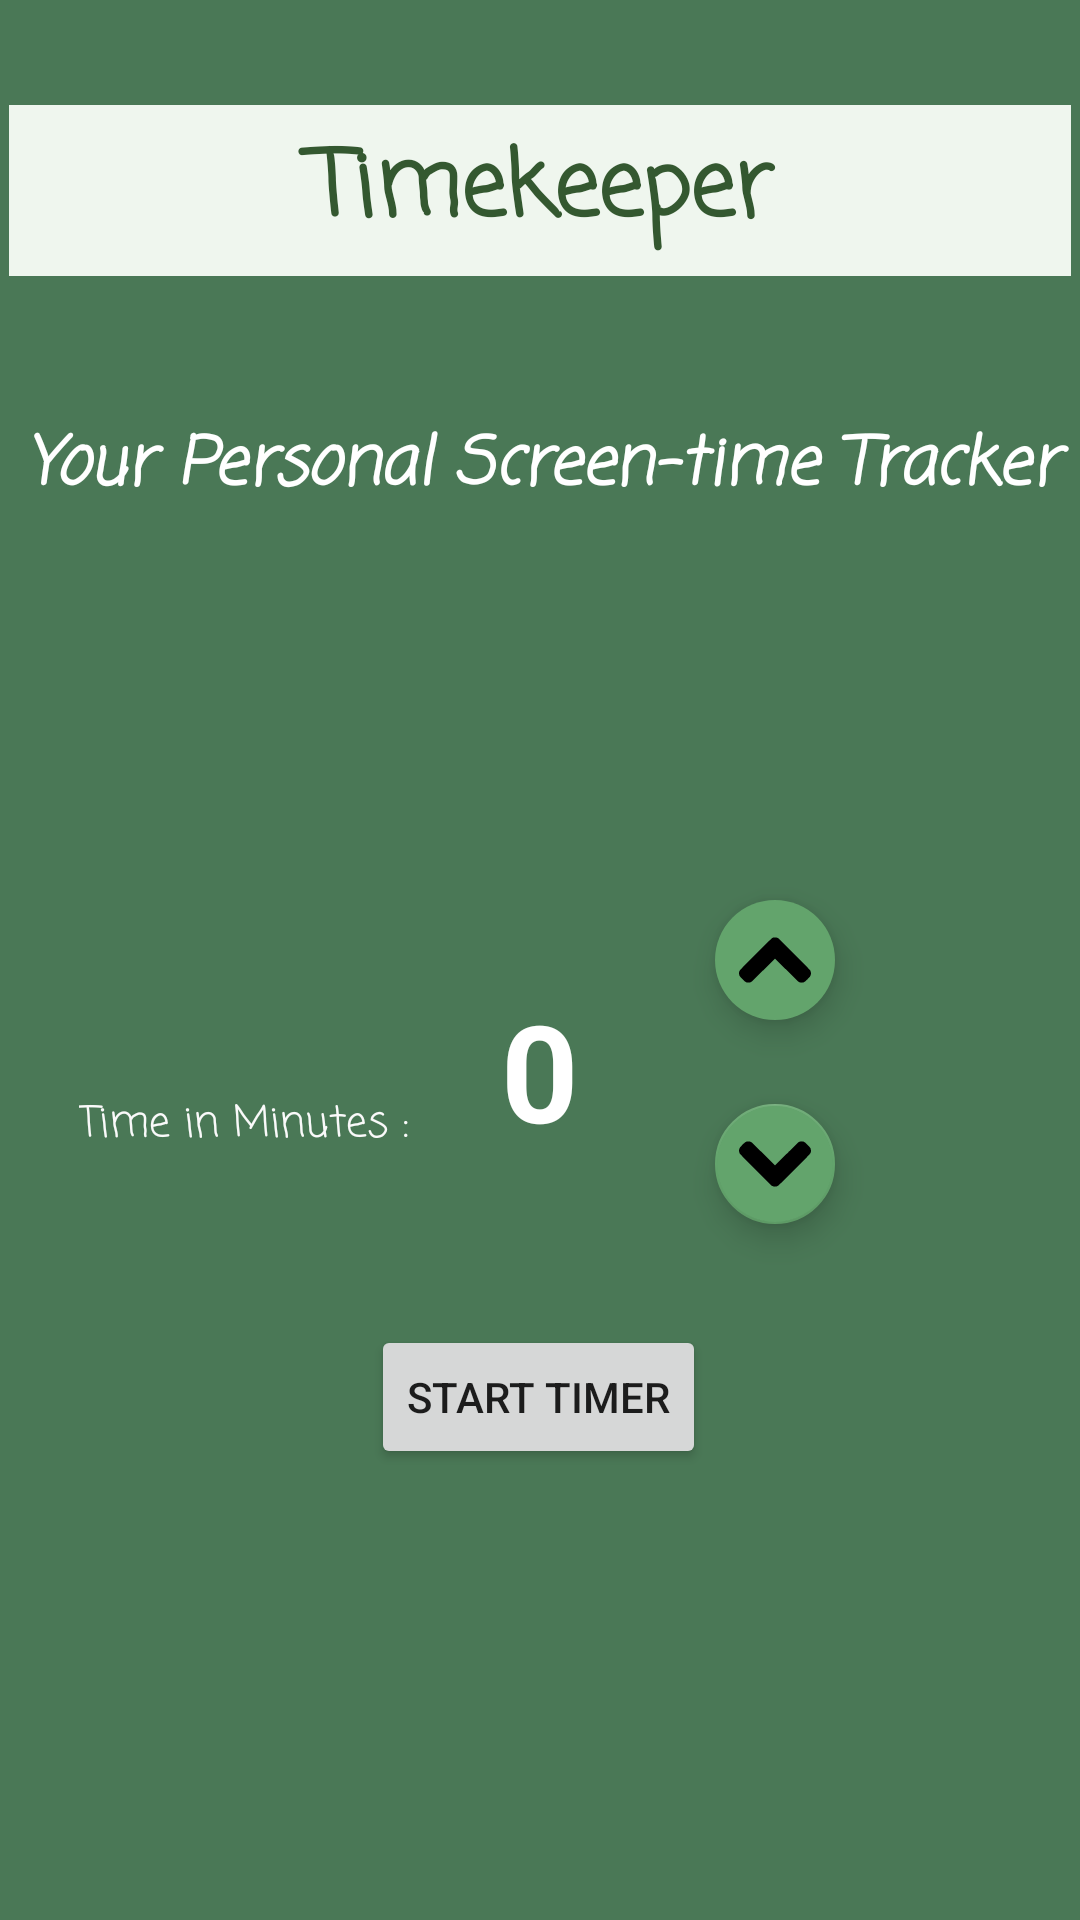

Screen size 1080×1920. Icon name, then its center in pixels as (x=x, y=y):
newarrowdown: (x=775, y=1164)
newarrowup: (x=775, y=960)
